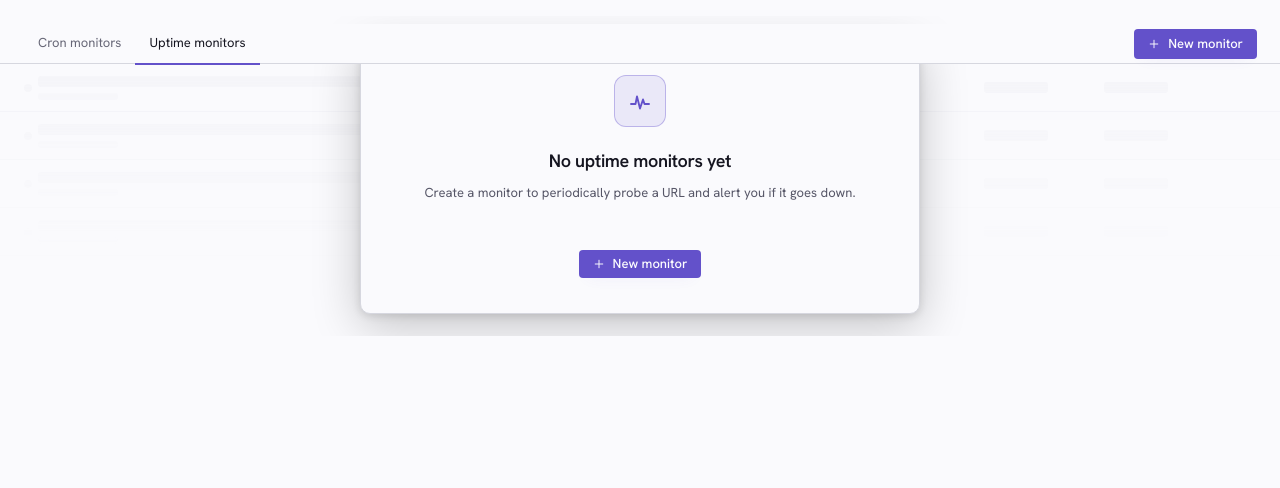
Scenario: UptimeMonitorsView › empty state › shows create form when empty state "New monitor" is clicked
This screenshot has width=1280, height=488.
Click the button with class "btn--primary" below "No uptime monitors yet" at (640, 264), box [580,251,700,277]
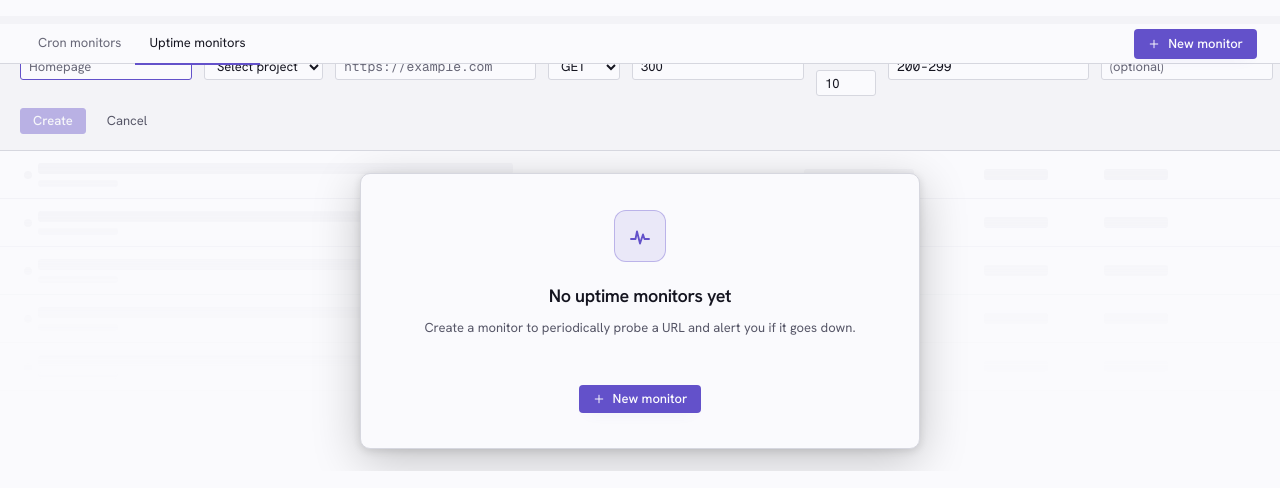
Expected: the element with class "mon-createbar" is shown, [0,16,1279,151]
